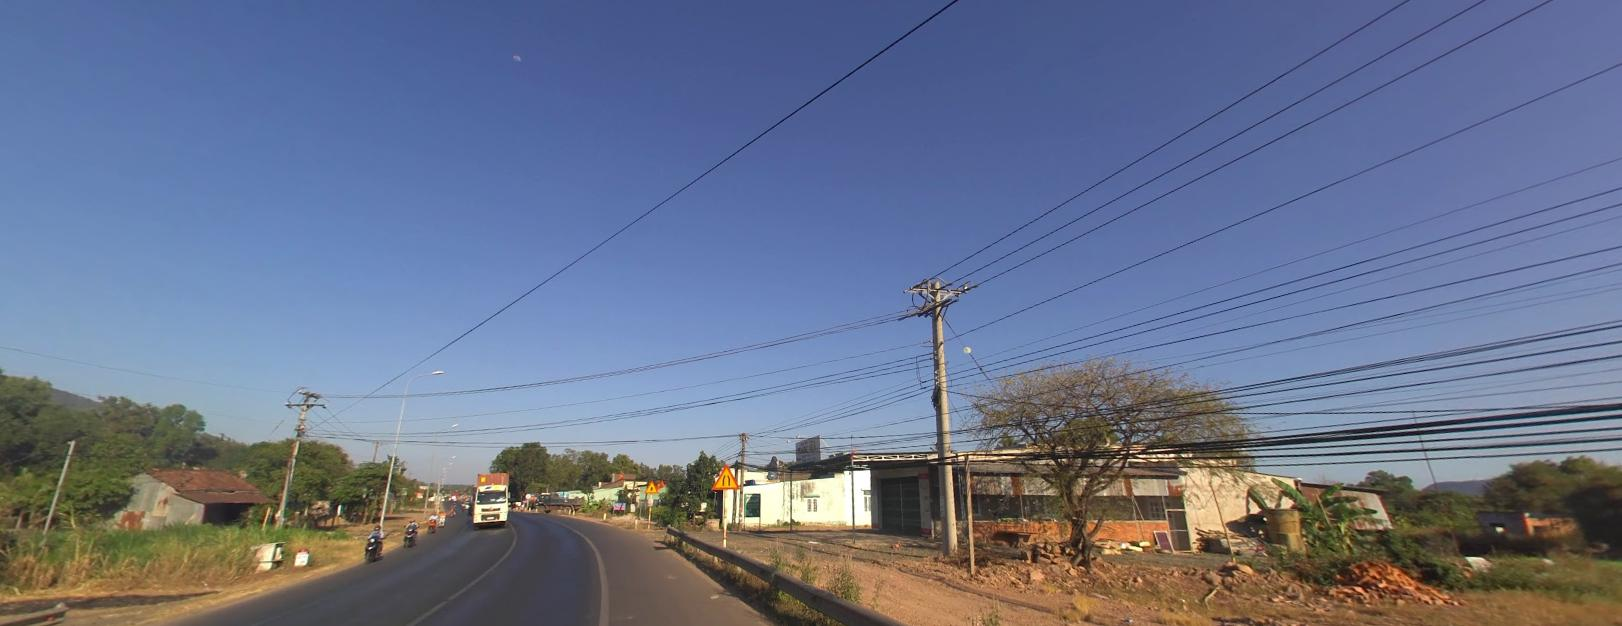Nguy hiem: (711, 461, 740, 489), (643, 479, 658, 492)
